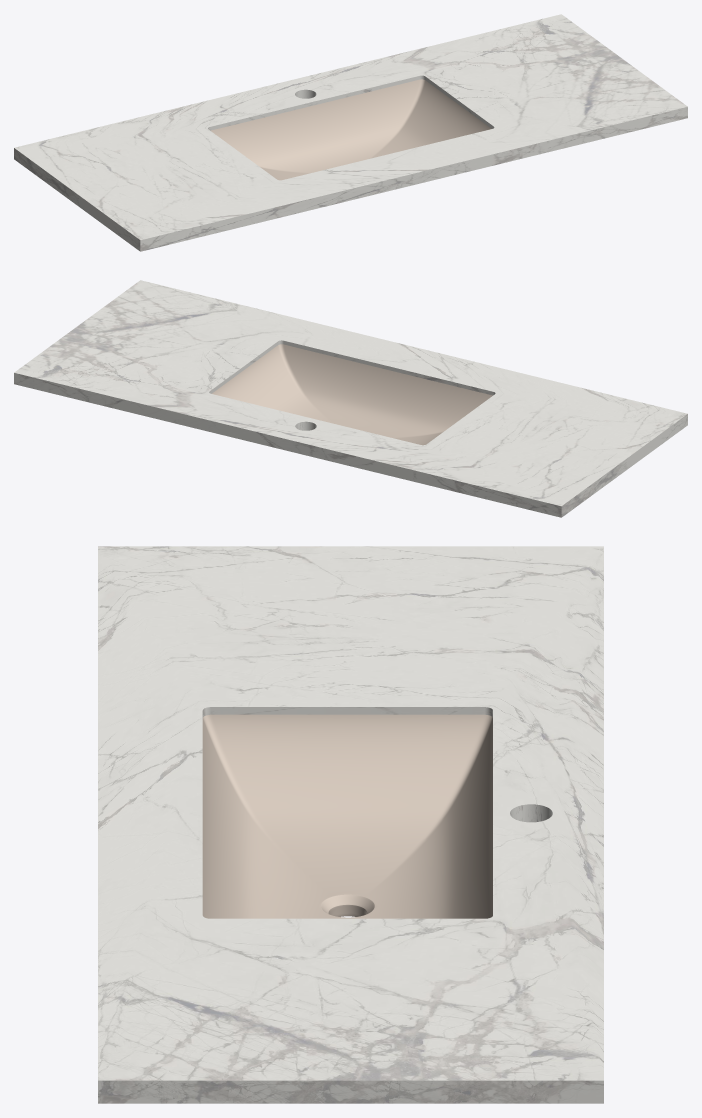
3 renders of one model, top to bottom at view 1: azimuth 30°, elevation 25°; view 2: azimuth 150°, elevation 25°; view 3: azimuth 270°, elevation 25°, orthographic. The views are drawn at different scales.
Visible parts, largest first — view 1: FA 134|2 cer, FA 134|2; view 2: FA 134|2 cer, FA 134|2; view 3: FA 134|2 cer, FA 134|2.
Boxes of the visible parts, x1,y1,x2,y2 form: FA 134|2 cer: [14, 14, 687, 251]; FA 134|2: [210, 79, 491, 180]; FA 134|2 cer: [14, 280, 687, 517]; FA 134|2: [212, 344, 492, 445]; FA 134|2 cer: [98, 546, 603, 1103]; FA 134|2: [202, 714, 492, 918].
Bounding box in the file's own units: 1.5 × 0.146 × 0.6.
Materials: 2 (1 with a texture image).
